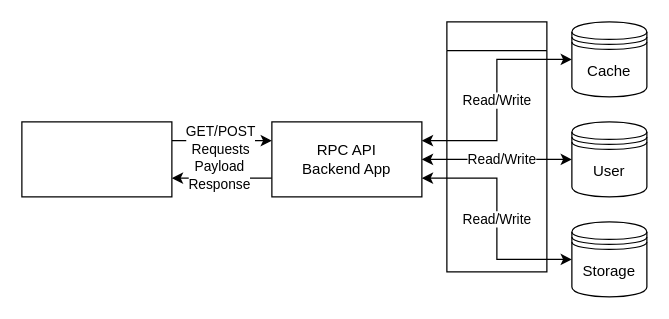
The diagram is 669 pixels wide and 319 high, and some of its shapes have lost their labels. Each missing label, with the box of its shape:
Connectors: (446, 21, 547, 272)
SPA Frontend App: (21, 121, 172, 197)
